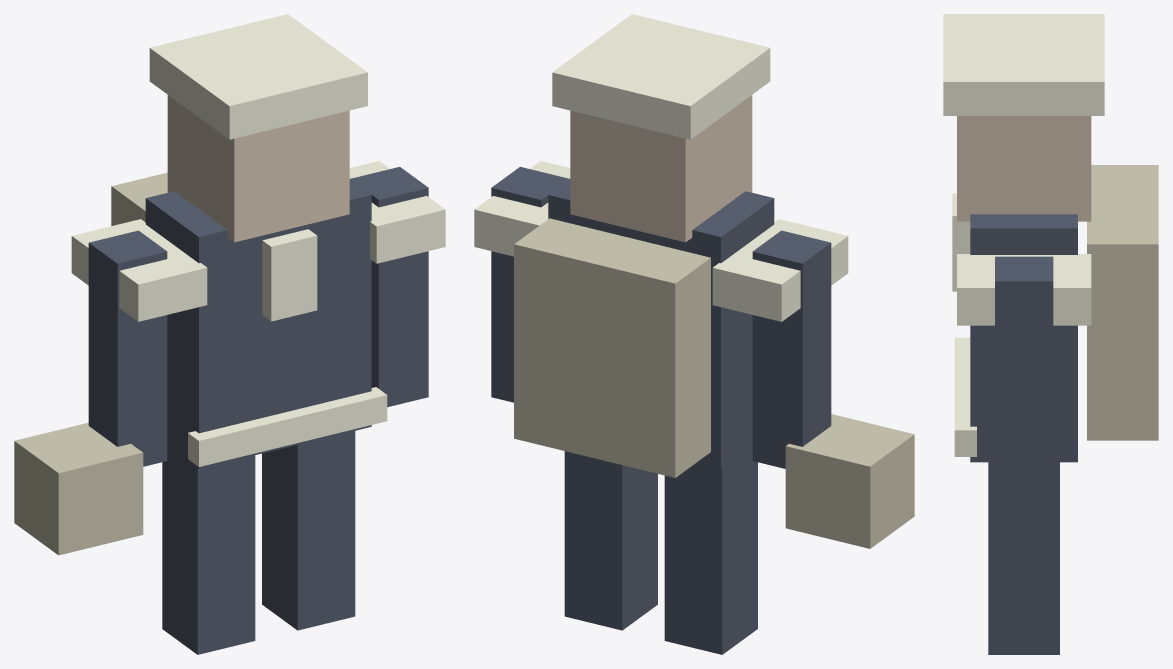
Rendered from 11_eryk_latchward_scout_at_patrol.glb.
3 renders of one model, left to right at view 1: azimuth 30°, elevation 25°; view 2: azimuth 150°, elevation 25°; view 3: azimuth 270°, elevation 25°, orthographic.
Visible parts, largest first — view 1: Eryk Latchward, Scout at Patrol; view 2: Eryk Latchward, Scout at Patrol; view 3: Eryk Latchward, Scout at Patrol.
Part boxes in pixels (x1=…): Eryk Latchward, Scout at Patrol: x1=14, y1=14, x2=445, y2=654; Eryk Latchward, Scout at Patrol: x1=474, y1=14, x2=914, y2=654; Eryk Latchward, Scout at Patrol: x1=943, y1=14, x2=1158, y2=654.
Size of the model in its own units: 1.08 by 1.52 by 0.5228.
